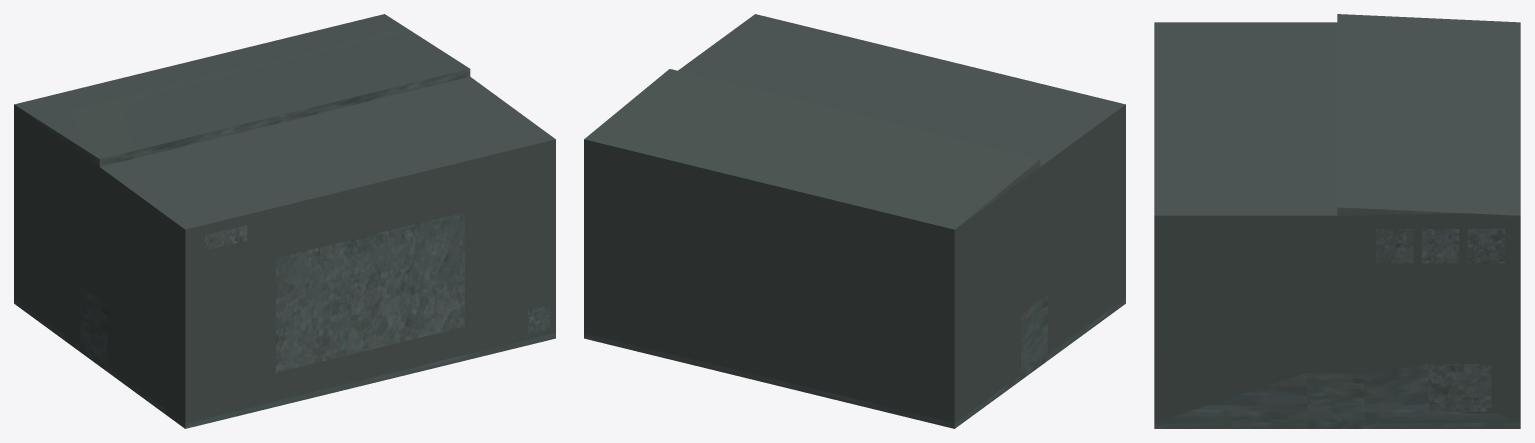
3 renders of one model, left to right at view 1: azimuth 30°, elevation 25°; view 2: azimuth 150°, elevation 25°; view 3: azimuth 270°, elevation 25°, orthographic. The views are drawn at different scales.
Visible parts, largest first — view 1: Joint_0_Object_0; view 2: Joint_0_Object_0; view 3: Joint_0_Object_0.
Boxes of the visible parts, bbox=[...] form: Joint_0_Object_0: bbox=[14, 14, 555, 428]; Joint_0_Object_0: bbox=[584, 14, 1125, 428]; Joint_0_Object_0: bbox=[1154, 14, 1520, 428].
Size of the model in its own units: 1000 by 534 by 800.
